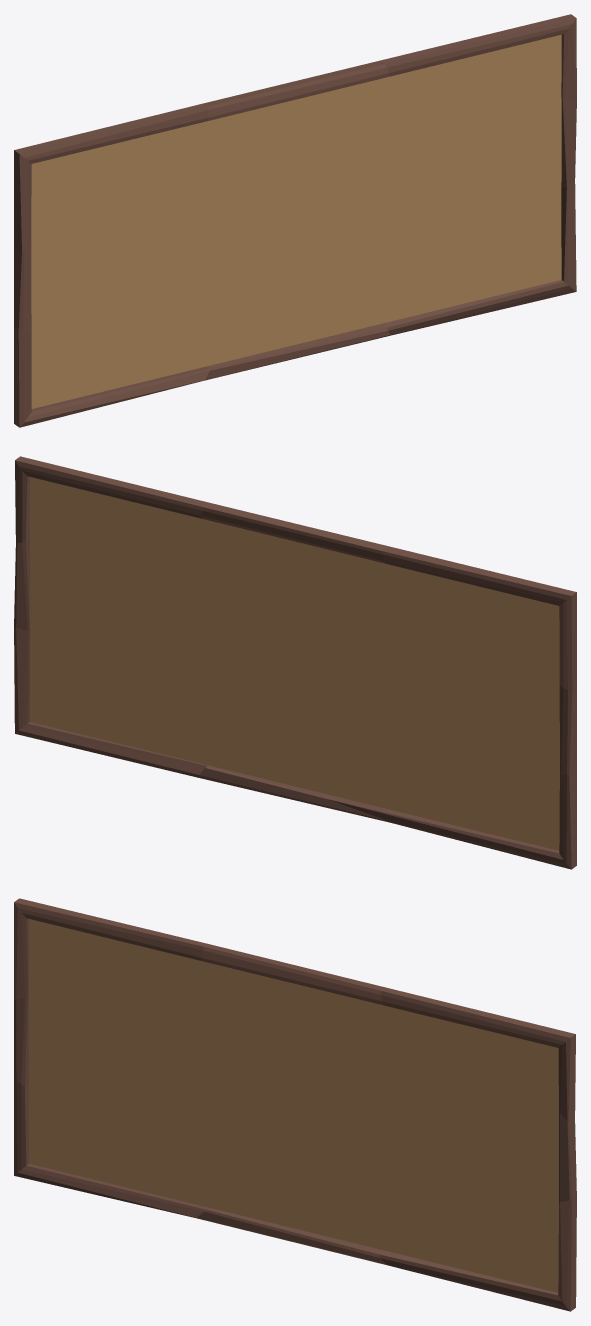
The model's file is pindesk.fbx.
3 renders of one model, top to bottom at view 1: azimuth 30°, elevation 25°; view 2: azimuth 150°, elevation 25°; view 3: azimuth 330°, elevation 25°, orthographic.
Visible parts, largest first — view 1: Cube; view 2: Cube; view 3: Cube.
Boxes of the visible parts, x1,y1,x2,y2 form: Cube: [14, 14, 576, 427]; Cube: [14, 456, 576, 869]; Cube: [14, 898, 576, 1311].
Bounding box in the file's own units: 557 × 262 × 15.36.
